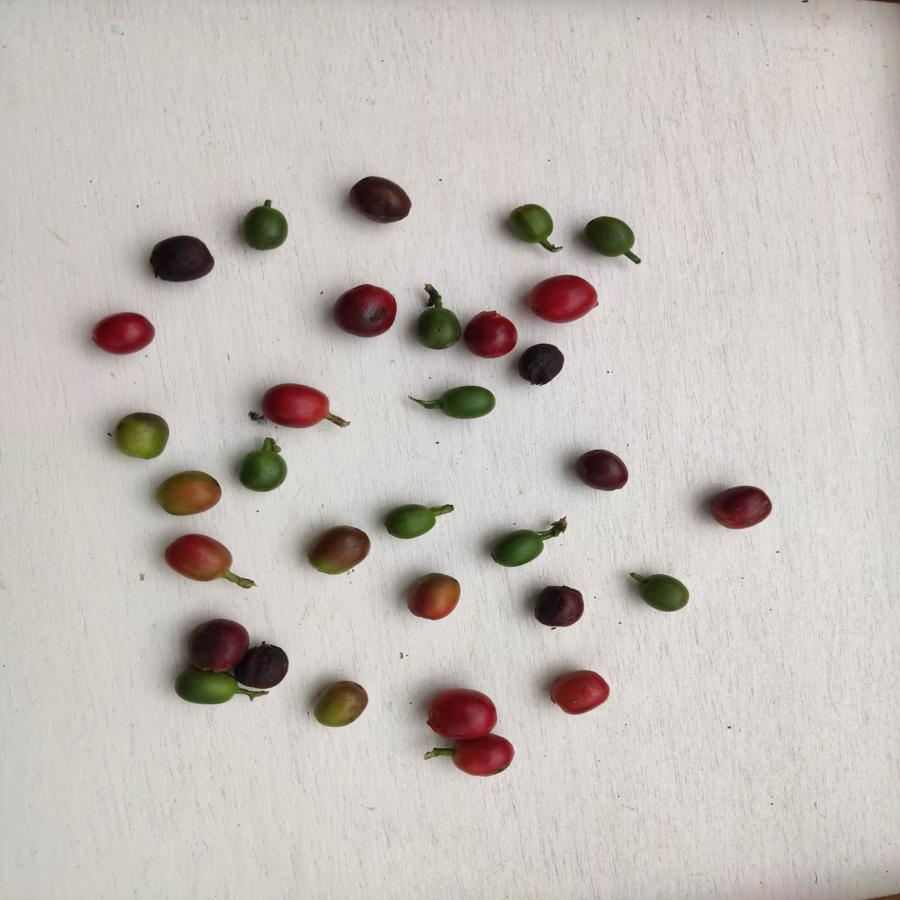Inmaduro: (380, 498, 440, 544), (114, 411, 170, 459), (637, 569, 690, 618), (584, 213, 638, 260), (437, 381, 497, 423), (490, 526, 547, 569), (416, 300, 461, 354), (239, 444, 287, 494), (243, 202, 290, 253), (177, 667, 234, 708), (508, 203, 557, 248)
Maduro: (523, 273, 601, 324), (423, 687, 499, 738), (263, 383, 333, 431), (544, 668, 613, 715), (90, 311, 157, 359), (461, 308, 518, 362), (449, 734, 517, 778)
Pinton: (163, 533, 238, 585), (305, 520, 373, 573), (312, 677, 370, 731), (158, 470, 222, 518), (408, 570, 462, 624)
Sobremaduro: (344, 172, 415, 226), (333, 281, 399, 339), (148, 234, 218, 284), (708, 484, 777, 533), (188, 618, 246, 668), (235, 643, 291, 691), (533, 582, 588, 629), (577, 448, 629, 497), (518, 342, 567, 388)
